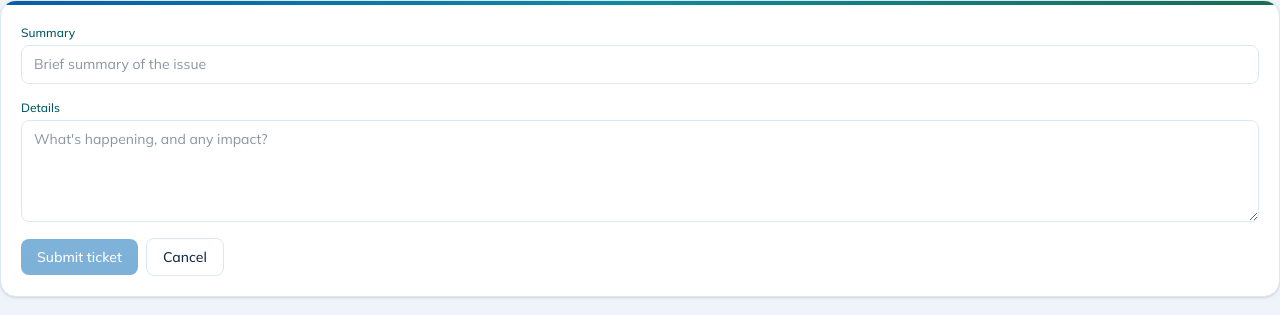
Test: RaiseCase › falls back to a generic message for a non-Error rejection
Type "X" into the field with placeholder "Brief summary of the issue" at [640, 64], box x1=21 y1=45 x2=1259 y2=84
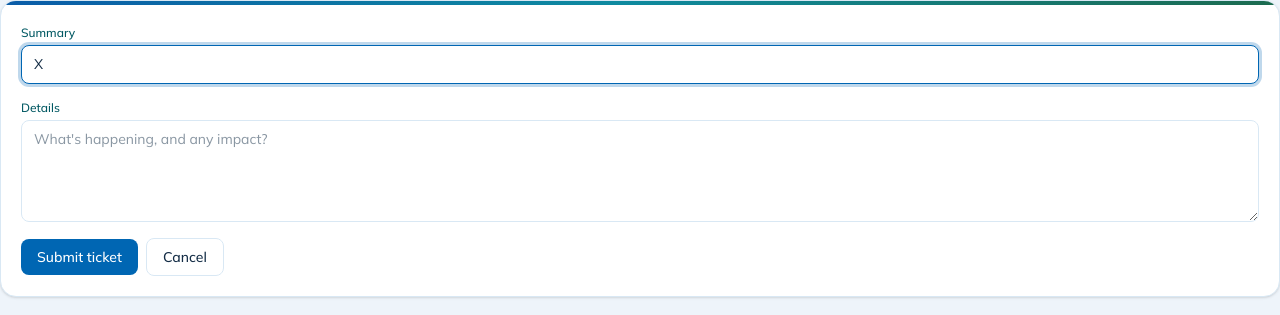
Click the button "Submit ticket" at [80, 257], box x1=21 y1=239 x2=138 y2=275
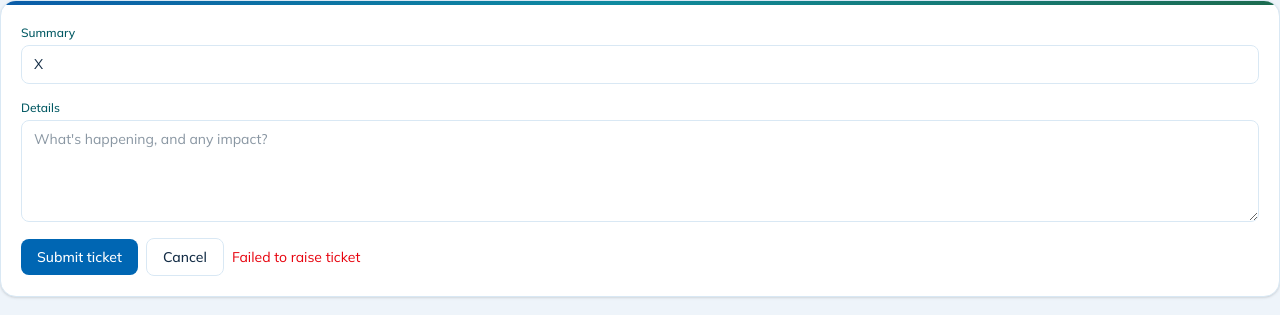
Result: the text "Failed to raise ticket" is shown at x1=232 y1=247 x2=360 y2=267
